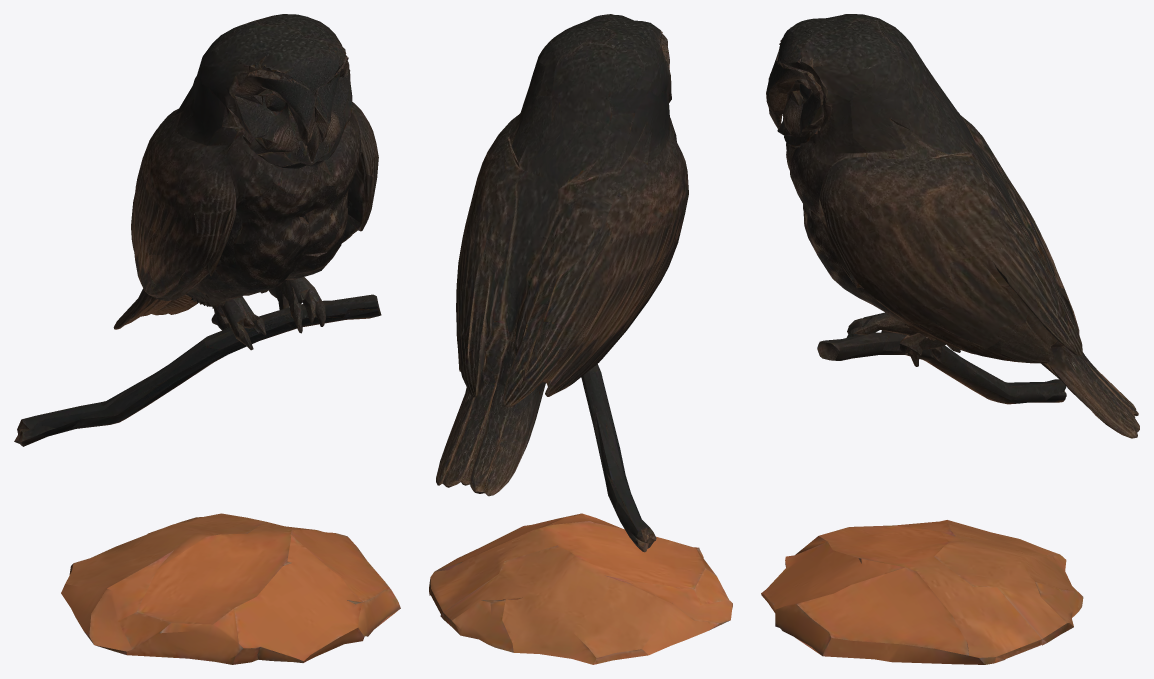
The model's file is owl.glb.
3 views of the same model, side by side, from view 1: azimuth 30°, elevation 25°; view 2: azimuth 150°, elevation 25°; view 3: azimuth 270°, elevation 25° (orthographic). The views are drawn at different scales.
Visible parts, largest first — view 1: mesh_node; view 2: mesh_node; view 3: mesh_node.
Boxes of the visible parts, left/top/right/bottom form: mesh_node: left=14, top=14, right=400, bottom=664; mesh_node: left=429, top=14, right=732, bottom=664; mesh_node: left=761, top=14, right=1139, bottom=664.
Bounding box in the file's own units: 0.9657 × 1.9 × 1.13.
Materials: 1 (1 with a texture image).
